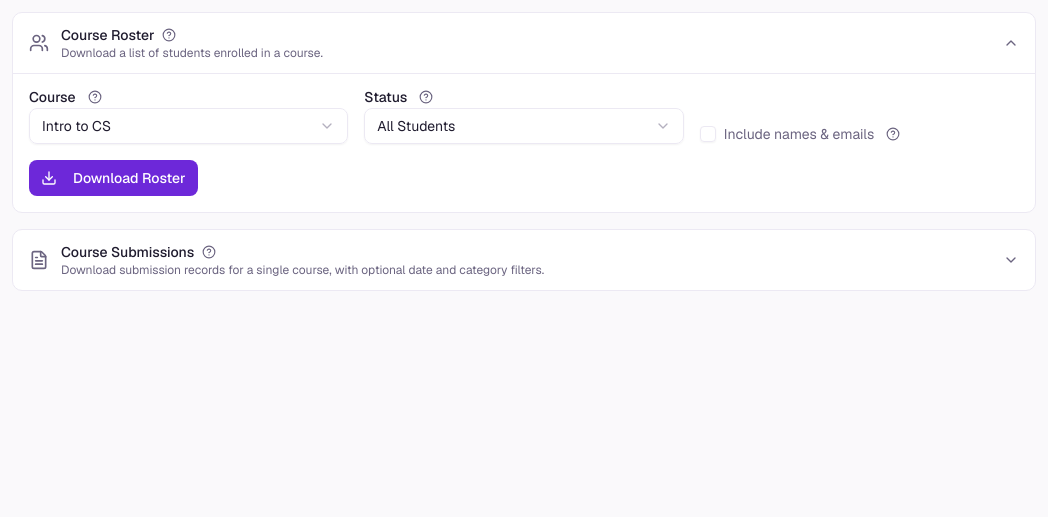
Test: QuickExportTab › renders date inputs and checkboxes in submissions card
Open the Course Submissions card
Click the text "Course Submissions". click: (128,252)
box: [61, 242, 194, 262]
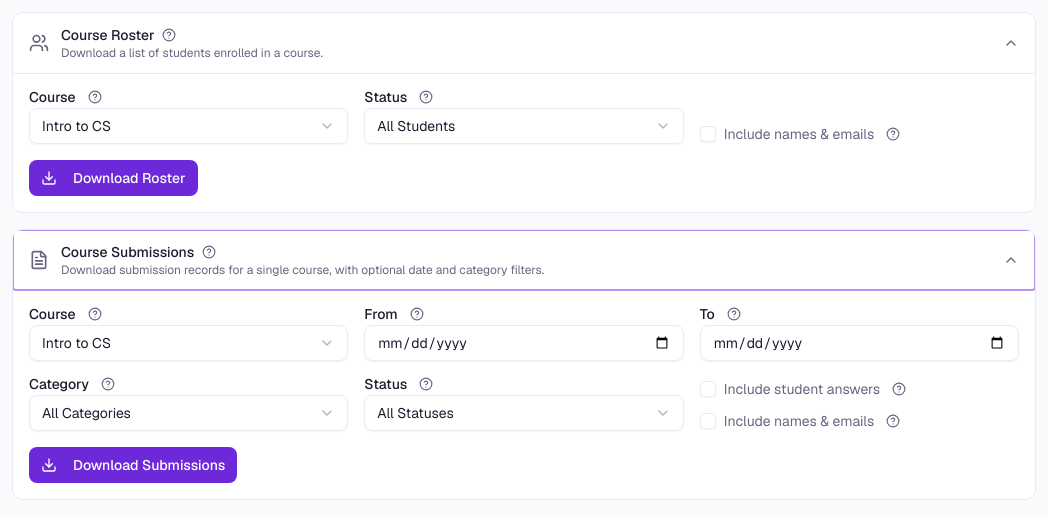
Expected: the text "From" is shown, [364, 305, 424, 323]
Expected: the text "To" is shown, [700, 305, 741, 323]
Expected: the text "Category" is shown, [29, 375, 115, 393]
